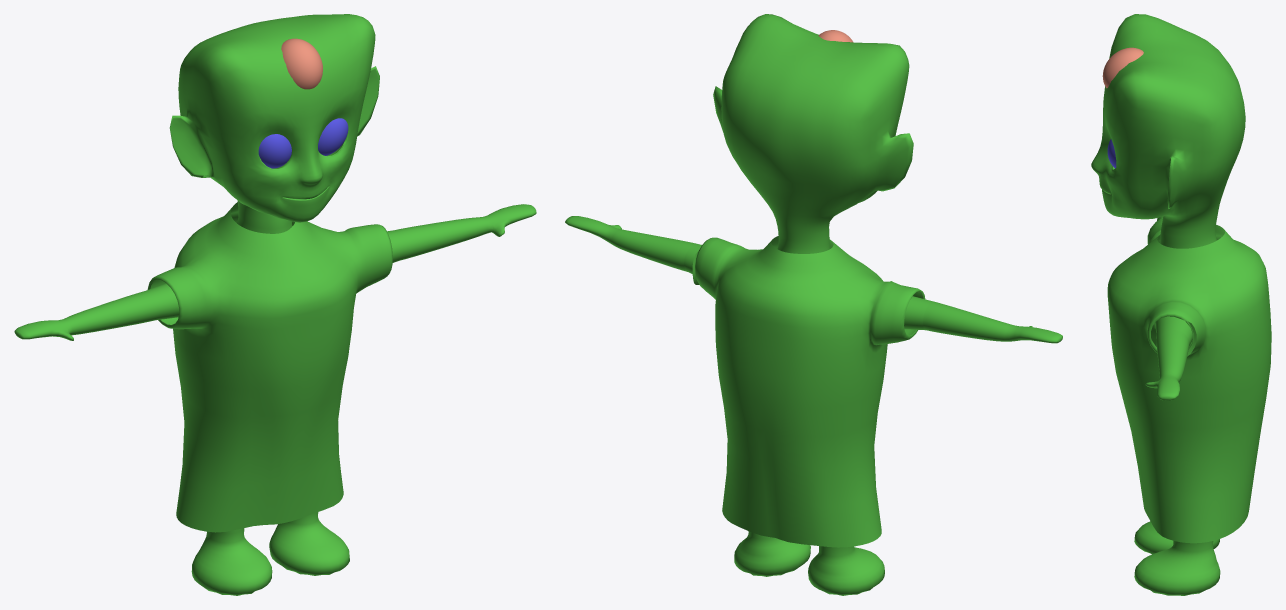
The model's file is uploads_files_4017724_LADIES(1).fbx.
3 views of the same model, side by side, from view 1: azimuth 30°, elevation 25°; view 2: azimuth 150°, elevation 25°; view 3: azimuth 270°, elevation 25° (orthographic). The views are drawn at different scales.
Visible parts, largest first — view 1: SIRT, ALIEN_FULLBODY, EYE.001, ANTINA; view 2: SIRT, ALIEN_FULLBODY; view 3: SIRT, ALIEN_FULLBODY, ANTINA.
Part boxes in pixels (left/top/right/bottom): SIRT: left=147, top=202, right=392, bottom=532; ALIEN_FULLBODY: left=14, top=14, right=536, bottom=595; EYE.001: left=258, top=118, right=348, bottom=168; ANTINA: left=281, top=38, right=322, bottom=89; SIRT: left=692, top=236, right=925, bottom=547; ALIEN_FULLBODY: left=565, top=14, right=1062, bottom=595; SIRT: left=1107, top=217, right=1271, bottom=543; ALIEN_FULLBODY: left=1091, top=14, right=1245, bottom=595; ANTINA: left=1102, top=47, right=1143, bottom=88.
Size of the model in its own units: 807 by 829 by 259.
